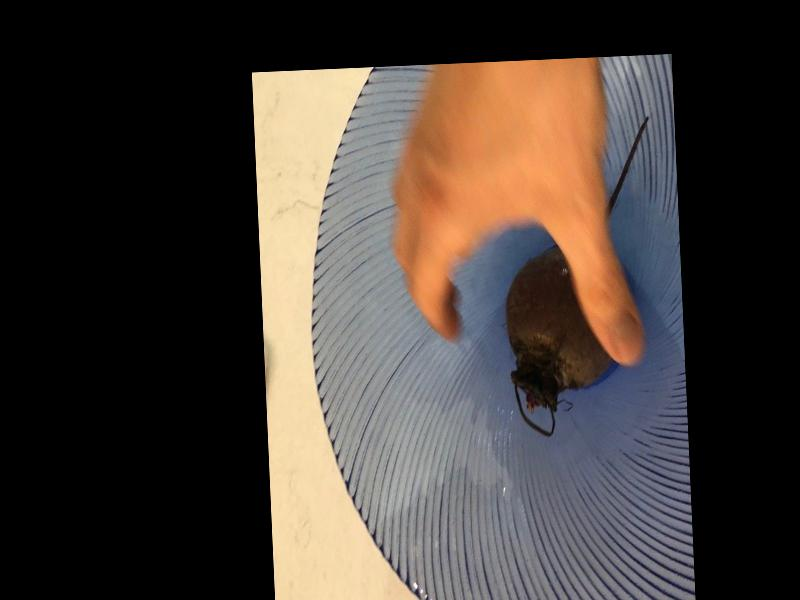Beet: (496, 117, 662, 438)
